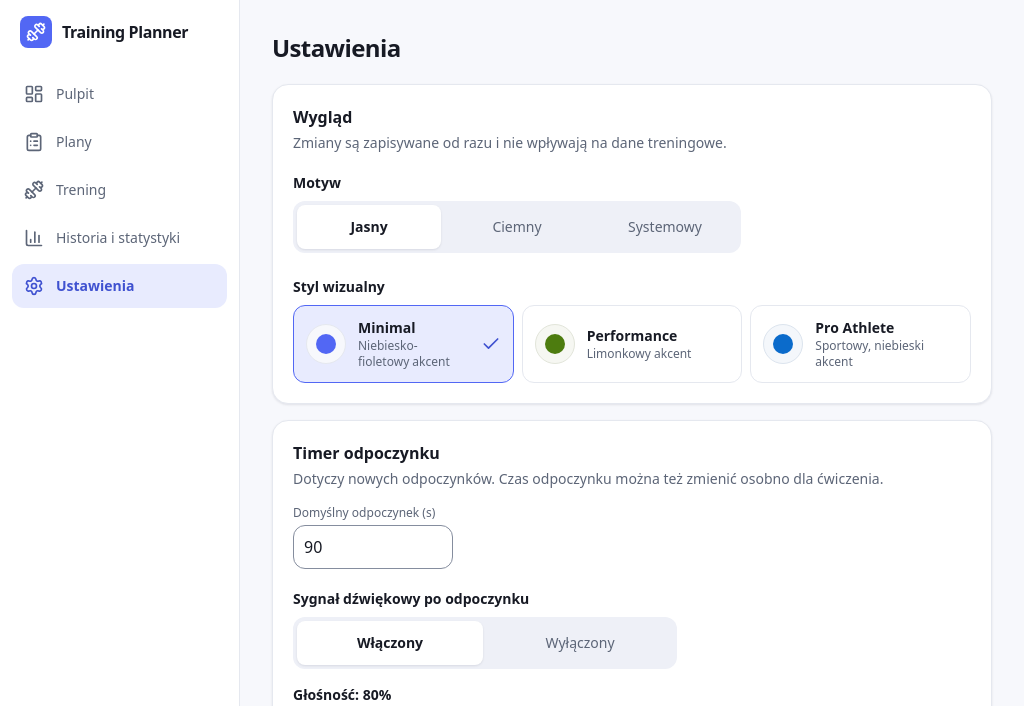
Test: timer settings › rejects a rest time outside the allowed range without saving it
The image size is (1024, 706).
Replace the text in the field labelled "Domyślny odpoczynek (s)" with "2" at (373, 547), box [293, 525, 453, 569]
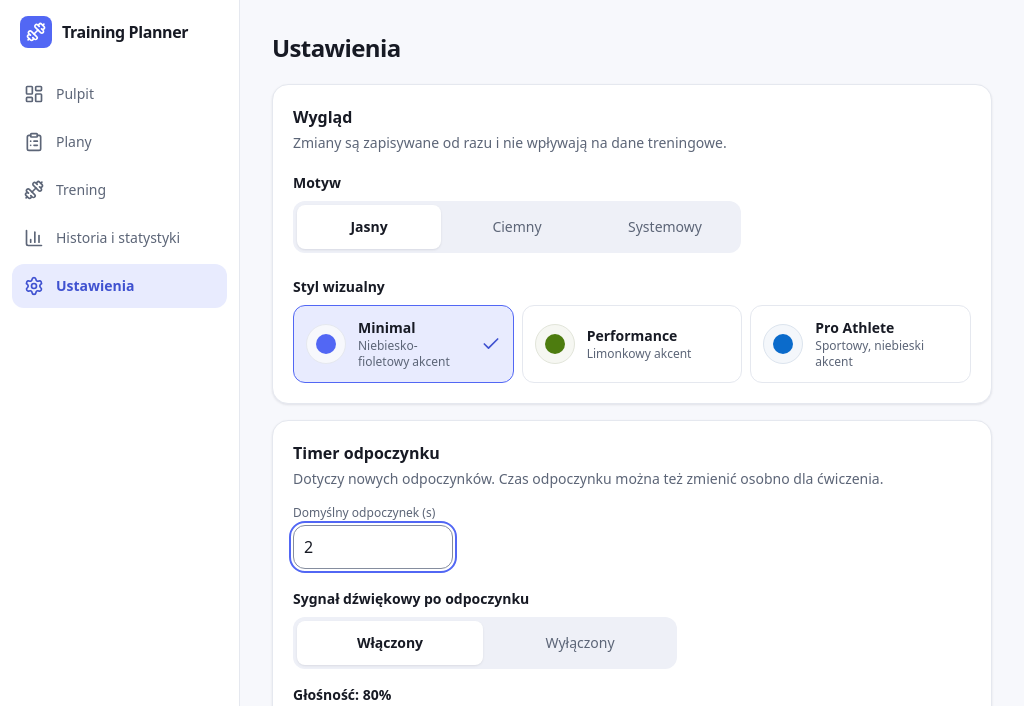
Press Tab
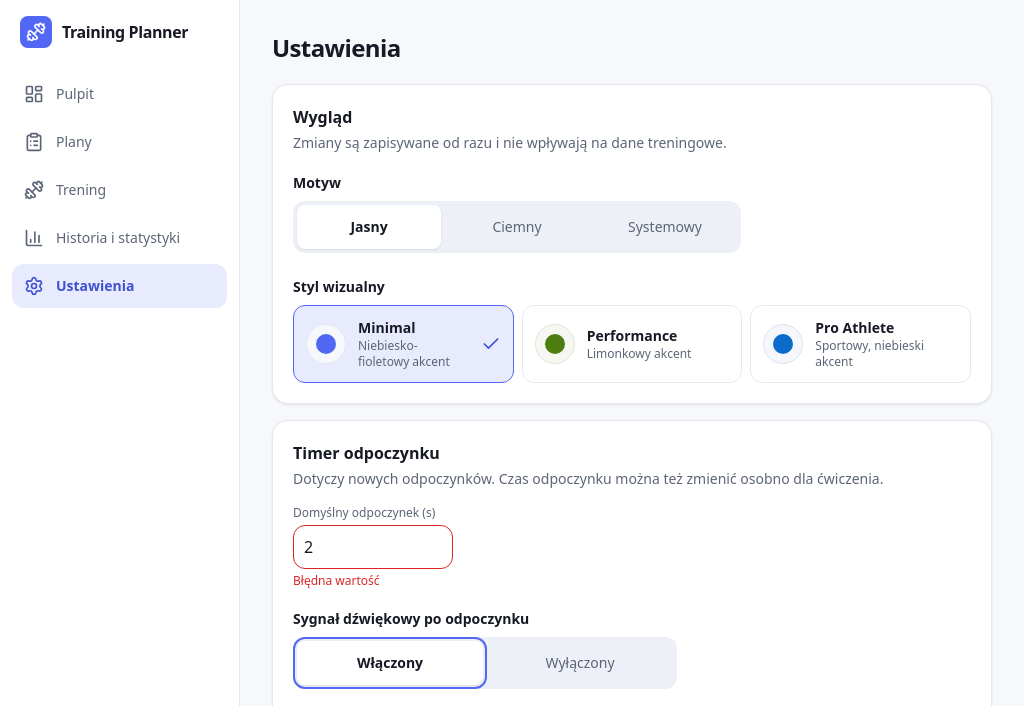
Result: the message reads "Błędna wartość" at [293, 572, 380, 589]
